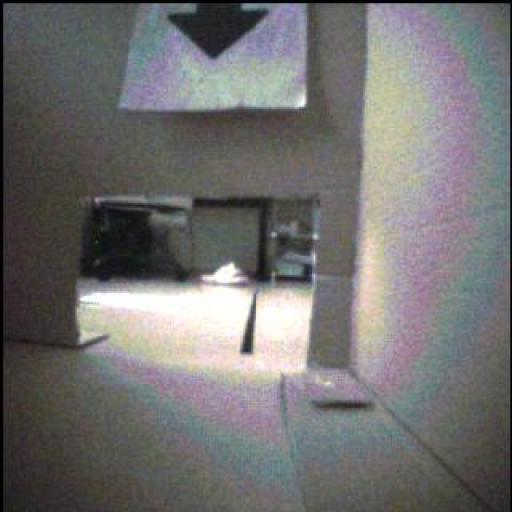arrow: (169, 4, 268, 59)
